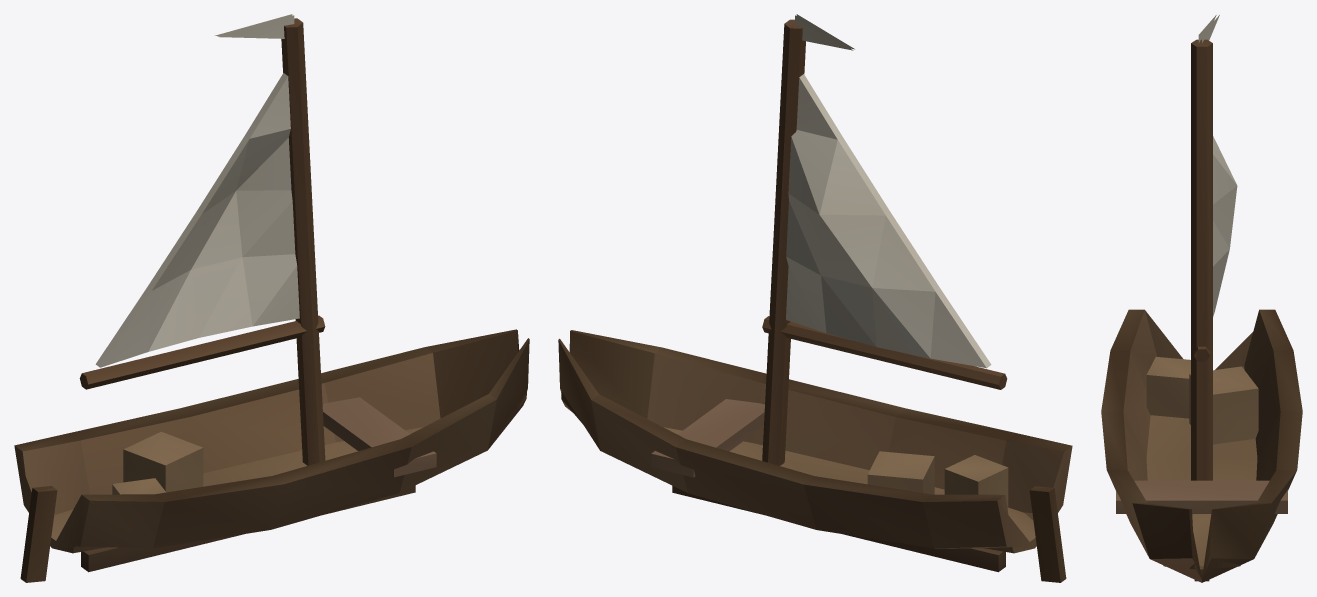
File: port.glb
The picture shows the model from 3 angles, left to right: view 1: azimuth 30°, elevation 25°; view 2: azimuth 150°, elevation 25°; view 3: azimuth 270°, elevation 25°; orthographic projection. The views are drawn at different scales.
Parts seen in each view (by area): view 1: port_pier, sail; view 2: port_pier, sail; view 3: port_pier, sail.
Boxes of the visible parts, x1,y1,x2,y2 form: port_pier: (14, 18, 529, 582); sail: (95, 14, 299, 367); port_pier: (558, 19, 1072, 582); sail: (786, 14, 991, 368); port_pier: (1101, 39, 1302, 582); sail: (1198, 15, 1237, 316).
Size of the model in its own units: 0.3056 by 0.295 by 0.11.
